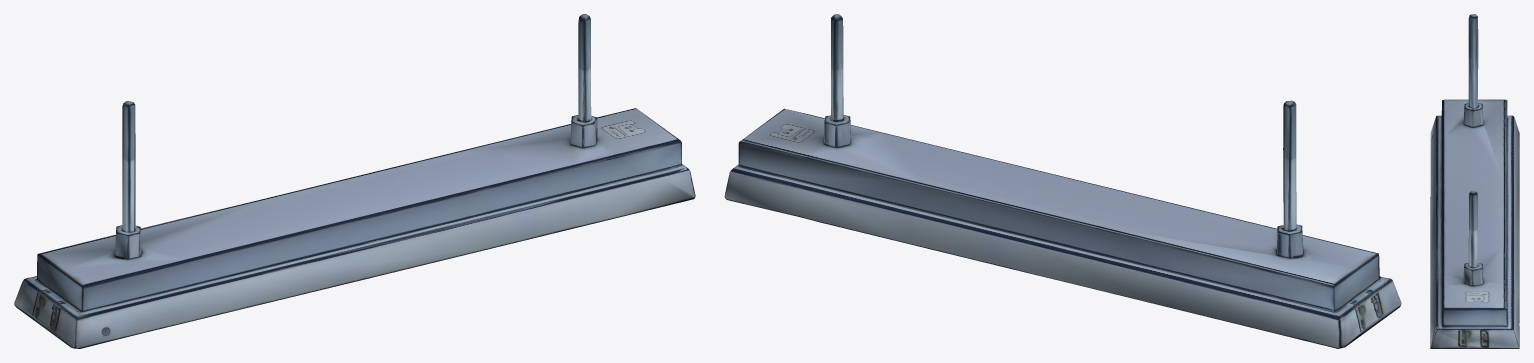
The model's file is LED灯管.fbx.
The picture shows the model from 3 angles, left to right: view 1: azimuth 30°, elevation 25°; view 2: azimuth 150°, elevation 25°; view 3: azimuth 270°, elevation 25°; orthographic projection. The views are drawn at different scales.
Visible parts, largest first — view 1: tripo_node_af43f99c; view 2: tripo_node_af43f99c; view 3: tripo_node_af43f99c.
Part boxes in pixels (x1,y1,x2,y2): tripo_node_af43f99c: (14,14,695,348); tripo_node_af43f99c: (724,14,1401,348); tripo_node_af43f99c: (1430,14,1519,348).
Bounding box in the file's own units: 0.9998 × 0.32 × 0.1739.
